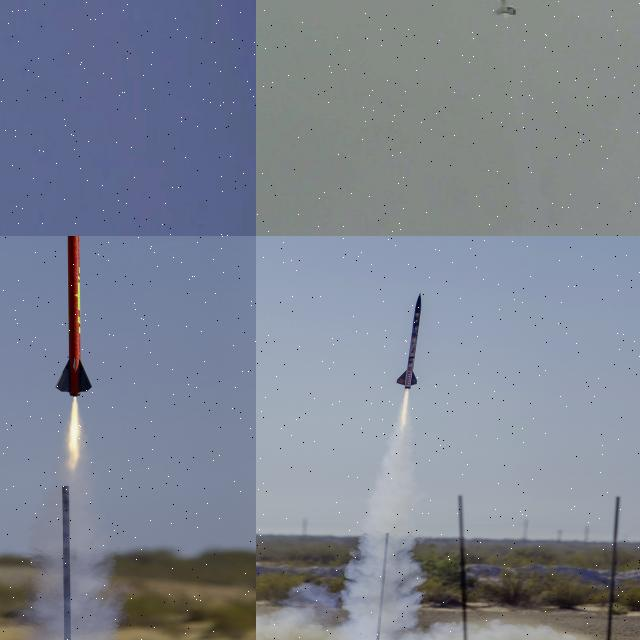Rocket: (56, 236, 93, 397), (396, 292, 422, 390), (493, 0, 517, 15)
